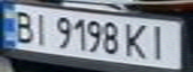1: (69, 16, 87, 52)
8: (100, 19, 124, 56)
9: (51, 14, 75, 50), (84, 18, 106, 54)
B: (6, 7, 39, 44)
I: (145, 22, 178, 61), (27, 10, 54, 46)
K: (121, 20, 151, 61)
